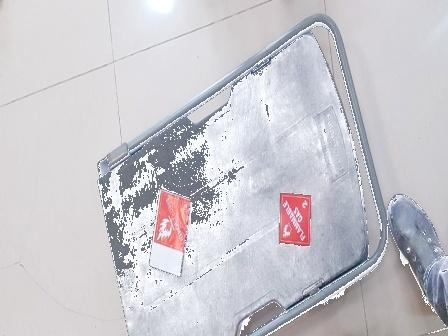flammable: (154, 189, 189, 251), (279, 193, 311, 243)
